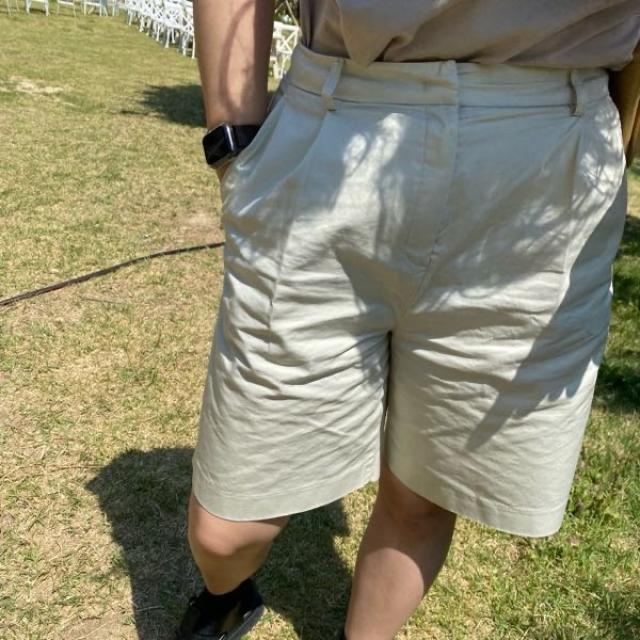shortpants: (188, 63, 628, 538)
